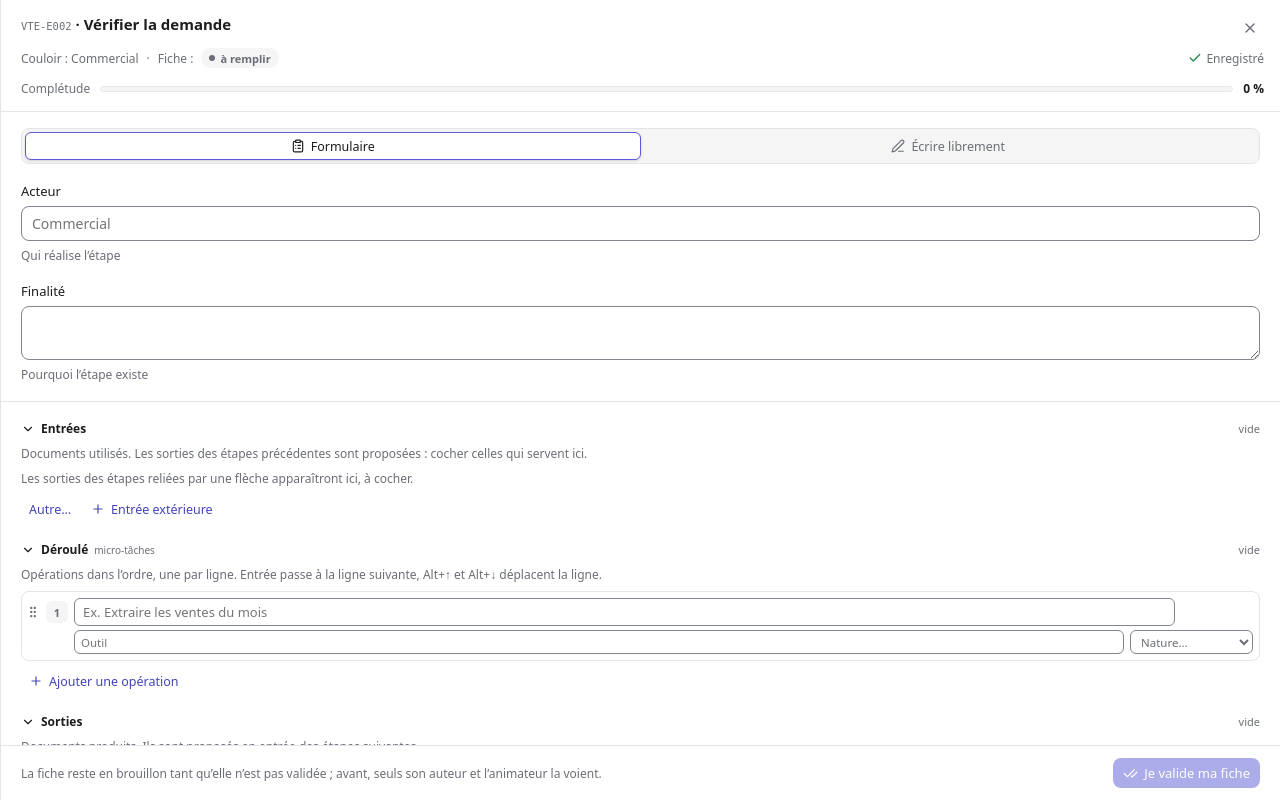
Scenario: the saving as typed (B-4-39 to B-4-42, B-4-47, B-4-50) › leaves once, 1200 ms after the last keystroke, cleaned, with the version 0 of a sheet never saved; the reply gives the map its gauge
The width and height of the screenshot is (1280, 800).
Type " Facturer " into the text box with test id "sheet-purpose" at (640, 333), box [21,306,1260,360]
Wait 600 ms
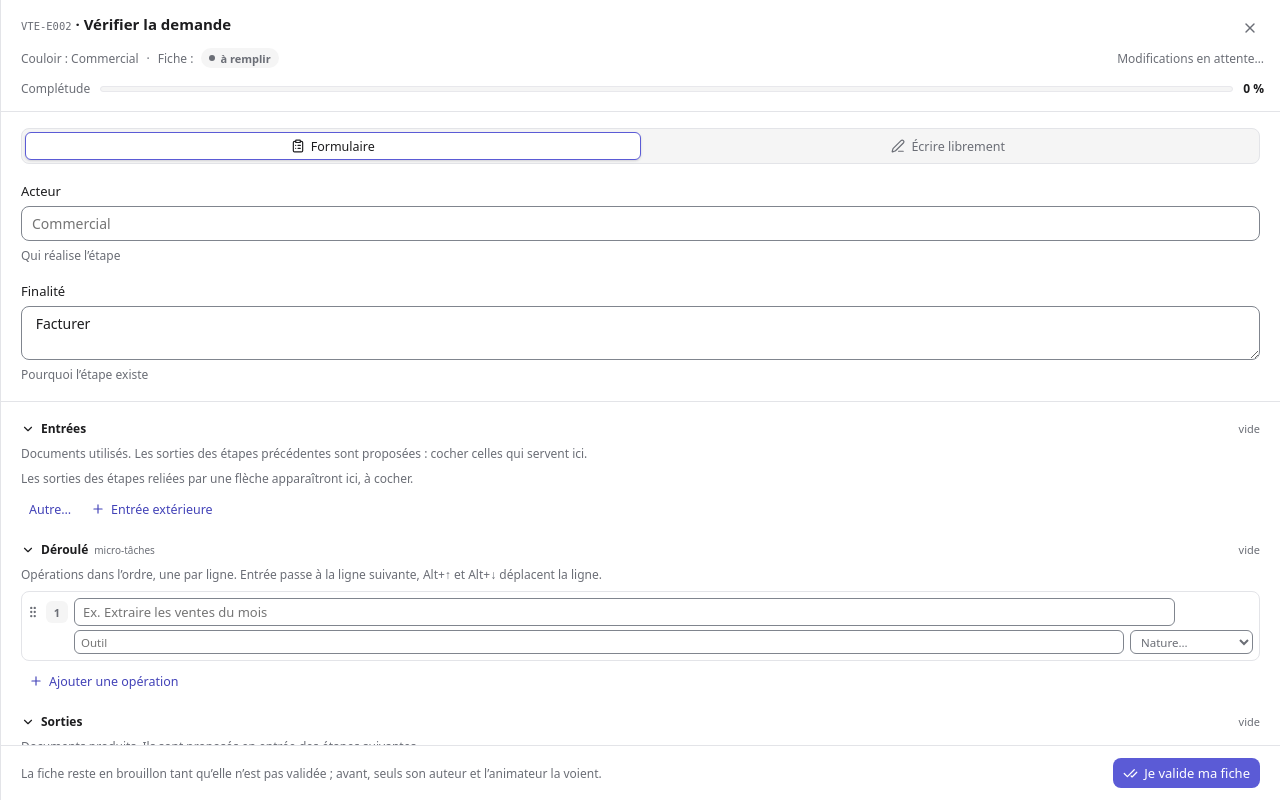
Type "Assistante" into the field with test id "sheet-actor" at (640, 224), box [21,206,1260,241]
Wait 1200 ms
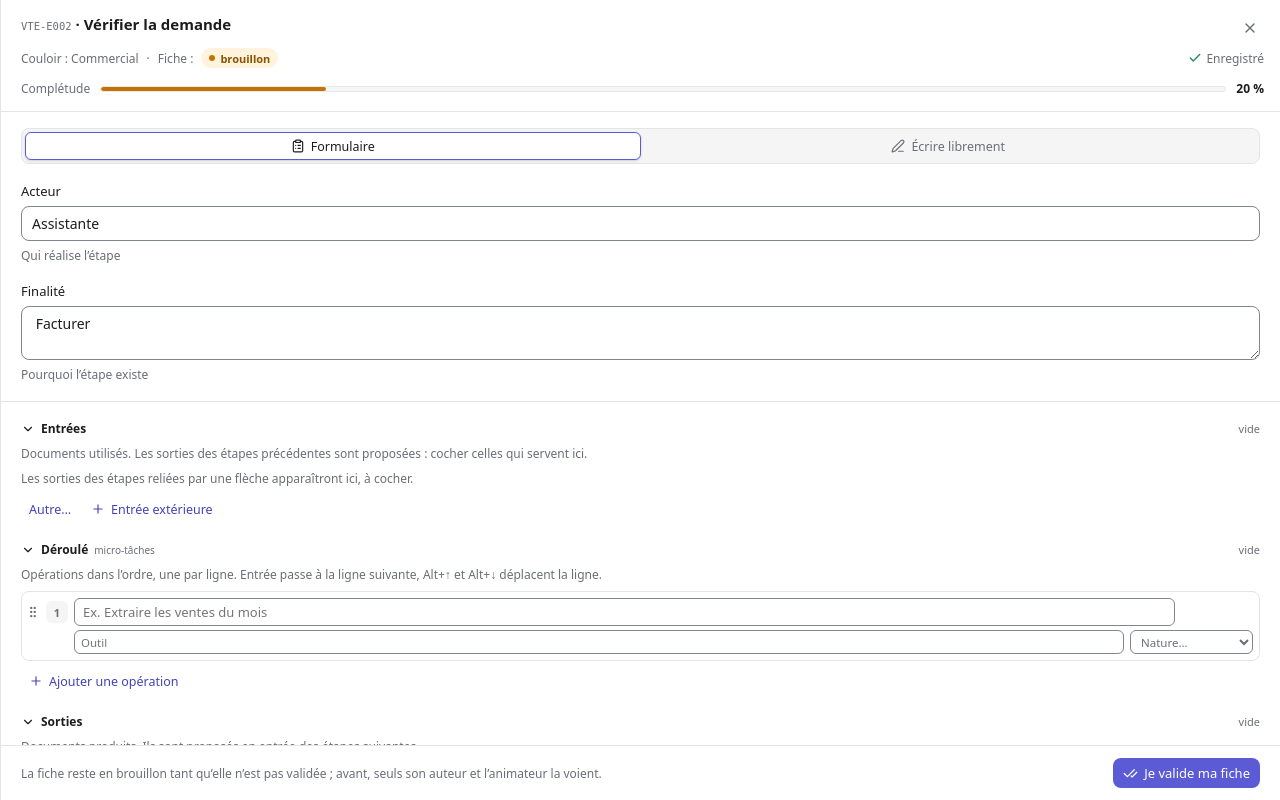
Result: the message with test id "sheet-saving" reads "Enregistré" at [1206,50,1264,66]
